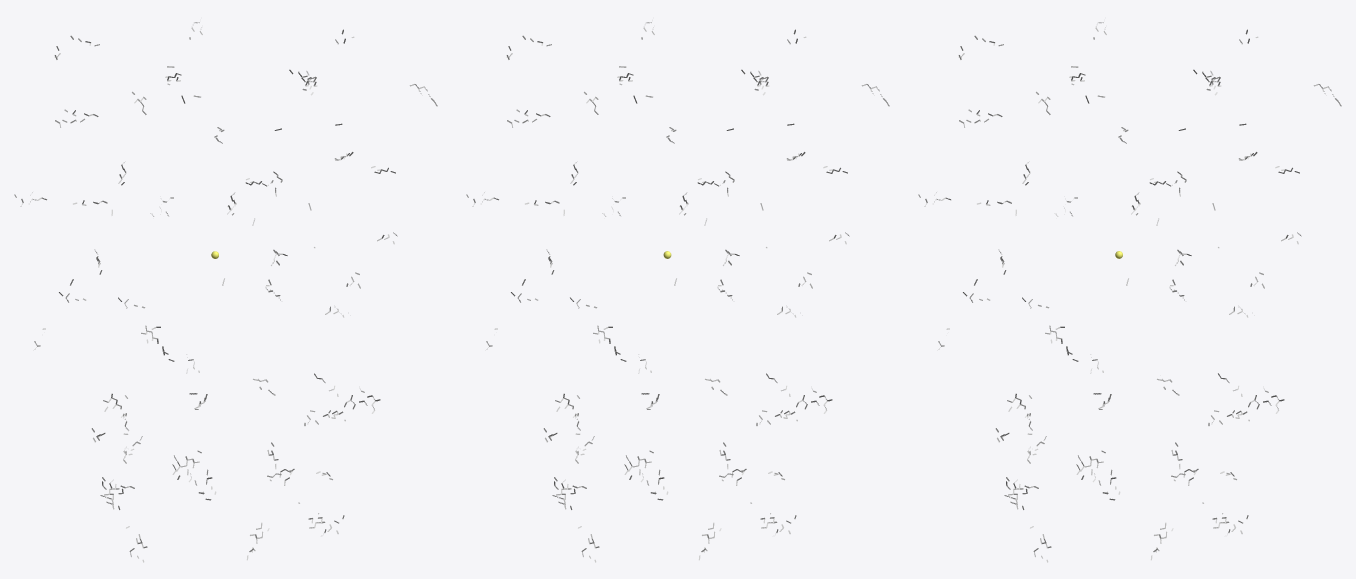
File: Cov3.glb
3 views of the same model, side by side, from view 1: azimuth 30°, elevation 25°; view 2: azimuth 150°, elevation 25°; view 3: azimuth 270°, elevation 25° (orthographic).
Parts seen in each view (by area): view 1: Carbon_sticks_mesh, Oxygen_sticks_mesh; view 2: Carbon_sticks_mesh, Oxygen_sticks_mesh; view 3: Carbon_sticks_mesh, Oxygen_sticks_mesh.
Part boxes in pixels (x1,y1,x2,y2): Carbon_sticks_mesh: [15, 22, 437, 562]; Oxygen_sticks_mesh: [14, 22, 420, 560]; Carbon_sticks_mesh: [467, 20, 889, 562]; Oxygen_sticks_mesh: [466, 22, 872, 560]; Carbon_sticks_mesh: [919, 22, 1341, 562]; Oxygen_sticks_mesh: [918, 22, 1324, 560].
Size of the model in its own units: 105 by 136 by 110.
